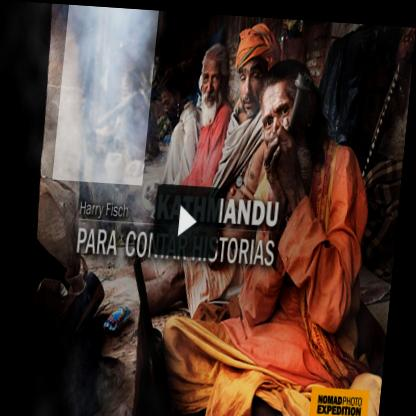smoke: (56, 4, 159, 183)
